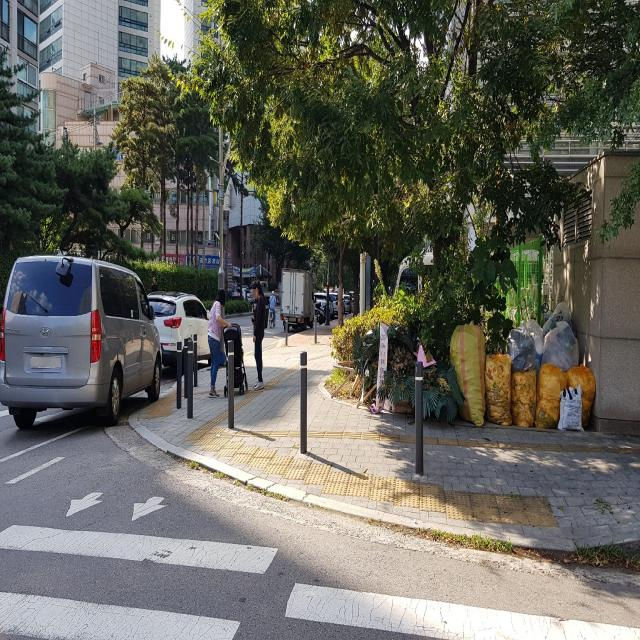횡단보도: (0, 490, 640, 640)
